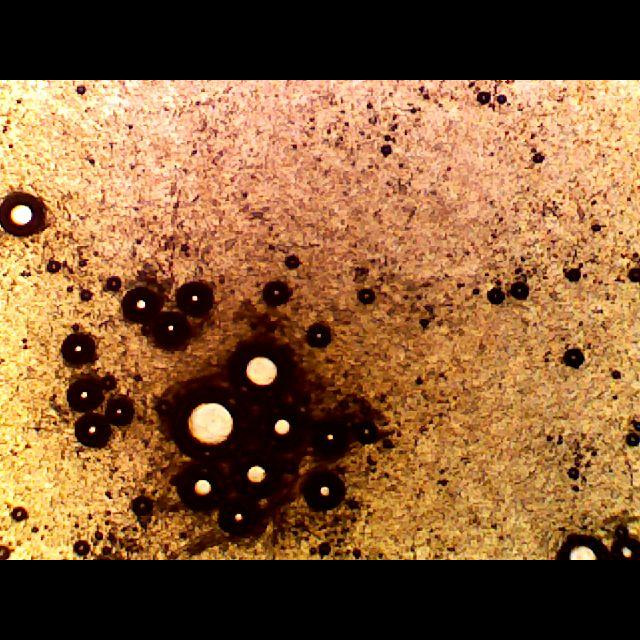microbeads: (160, 385, 248, 461), (230, 338, 300, 396), (256, 404, 312, 446), (169, 468, 229, 507), (0, 191, 52, 235), (214, 497, 264, 537), (302, 468, 348, 508), (121, 279, 159, 325), (312, 421, 353, 457), (58, 331, 94, 369), (64, 379, 100, 413), (74, 418, 112, 448), (179, 280, 213, 312), (105, 396, 133, 426), (259, 280, 293, 304), (304, 324, 332, 348), (559, 345, 585, 369), (508, 281, 534, 303), (486, 288, 506, 306), (567, 266, 583, 286), (356, 290, 376, 306)
